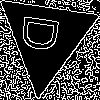D: (20, 13, 68, 55)
